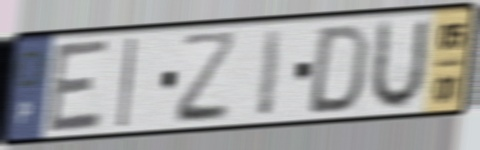D: (303, 21, 372, 117)
E: (45, 35, 113, 137)
I: (254, 25, 286, 122), (115, 35, 139, 131)
U: (366, 15, 432, 114)
Z: (175, 27, 239, 128)
